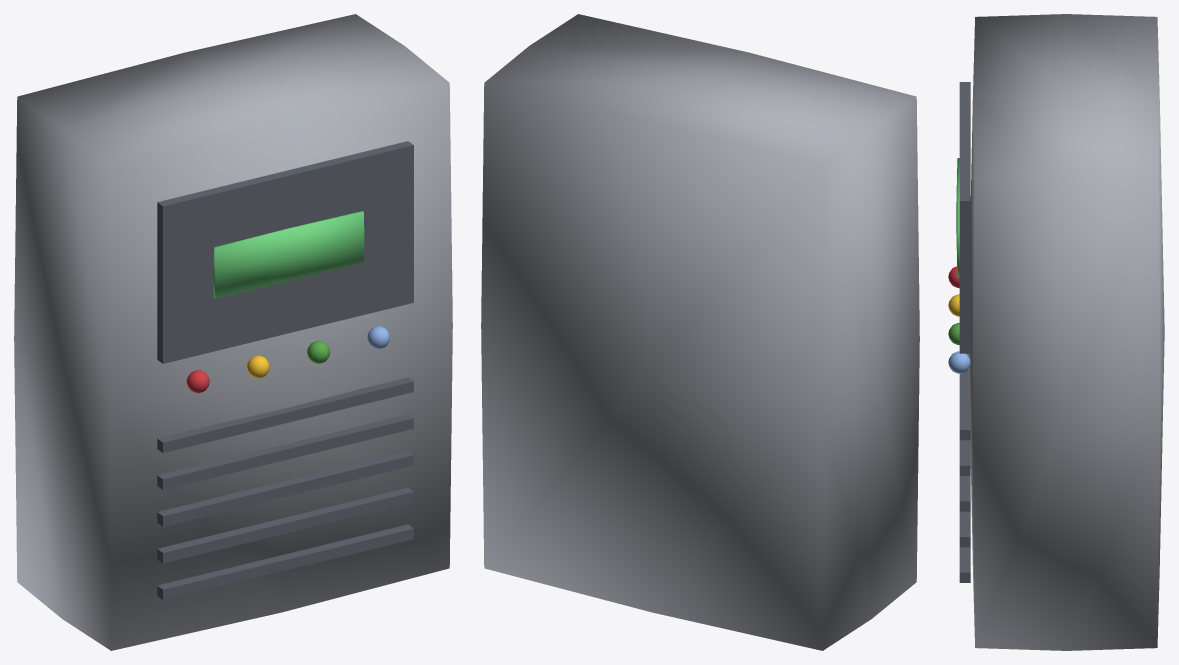
File: inverter.glb
The picture shows the model from 3 angles, left to right: view 1: azimuth 30°, elevation 25°; view 2: azimuth 150°, elevation 25°; view 3: azimuth 270°, elevation 25°; orthographic projection. The views are drawn at different scales.
Visible parts, largest first — view 1: root; view 2: root; view 3: root.
Boxes of the visible parts, bbox=[...] form: root: bbox=[14, 14, 452, 650]; root: bbox=[481, 14, 919, 650]; root: bbox=[948, 14, 1164, 650].
Size of the model in its own units: 0.7 by 0.95 by 0.385.
